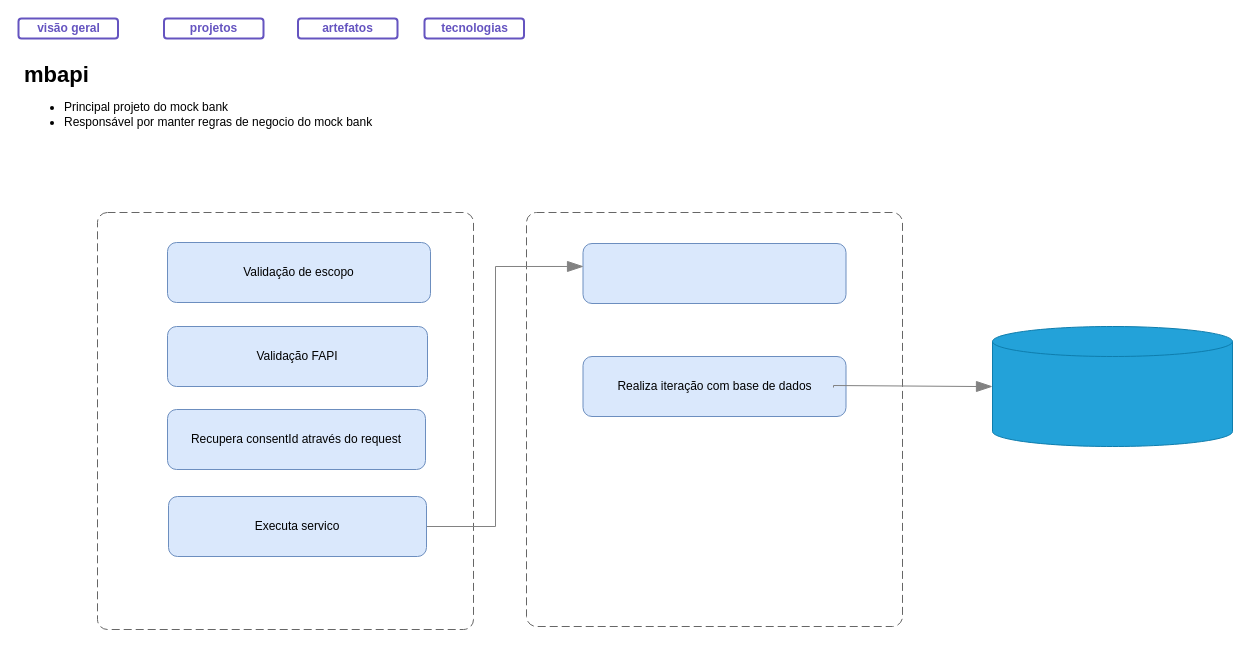
Image size: 1250x647. Some labels were removed from this diagram. The box of each missing label's shape, as (x1, y1, x2, y2) in pixels:
Banco de Dados [Container: POSTGRES]: (992, 326, 1232, 446)
Controller: (96, 212, 474, 630)
Realiza manipulações e regras negocio: (582, 242, 846, 304)
Service: (526, 212, 902, 626)
